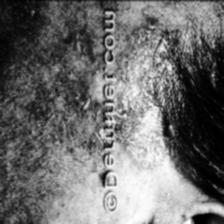Unclassified: (50, 14, 98, 172), (120, 10, 163, 162), (197, 0, 224, 25)
